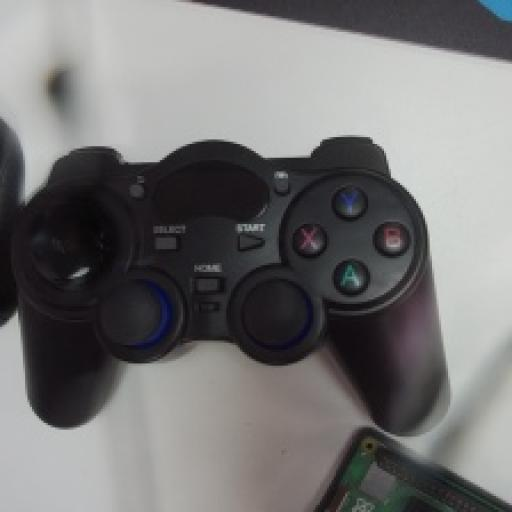game pad: (11, 137, 446, 432)
